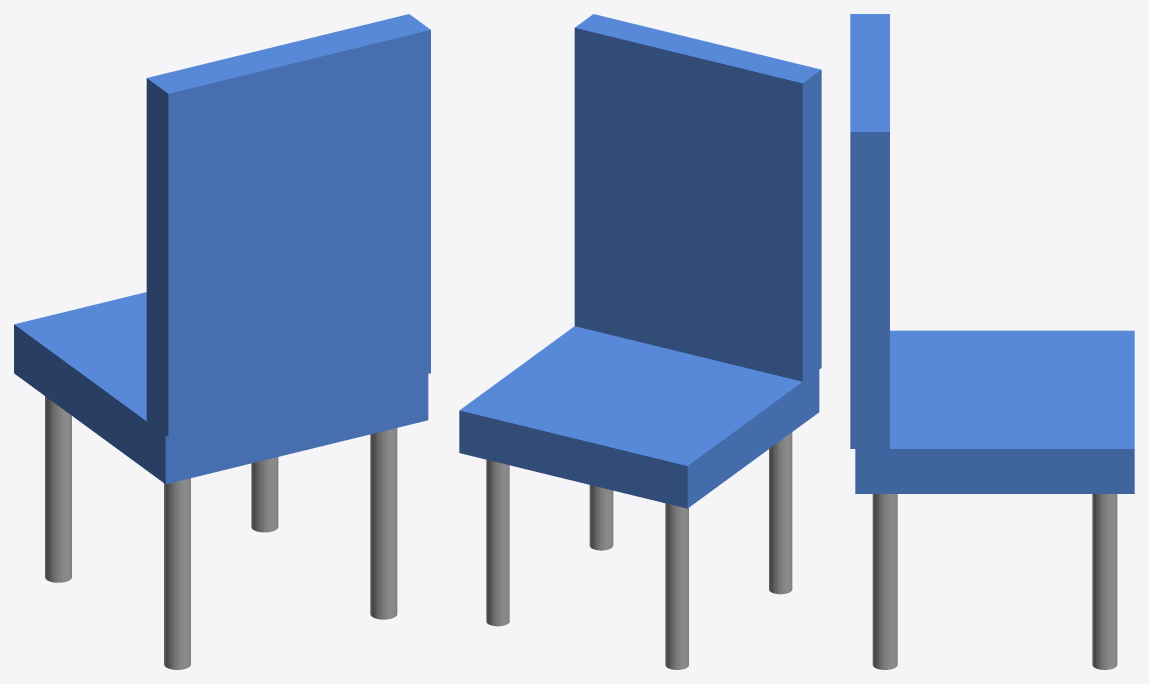
The model's file is sillla.fbx.
The picture shows the model from 3 angles, left to right: view 1: azimuth 30°, elevation 25°; view 2: azimuth 150°, elevation 25°; view 3: azimuth 270°, elevation 25°; orthographic projection. The views are drawn at different scales.
Parts seen in each view (by area): view 1: Respaldo, Asiento, Cylinder.002, Cylinder.003, Cylinder.001, Cylinder; view 2: Respaldo, Asiento, Cylinder.001, Cylinder, Cylinder.003, Cylinder.002; view 3: Asiento, Respaldo, Cylinder, Cylinder.002.
Boxes of the visible parts, left/top/right/bottom form: Respaldo: left=146, top=14, right=430, bottom=437; Asiento: left=14, top=292, right=428, bottom=484; Cylinder.002: left=370, top=428, right=397, bottom=619; Cylinder.003: left=164, top=478, right=190, bottom=669; Cylinder.001: left=45, top=396, right=71, bottom=582; Cylinder: left=251, top=457, right=278, bottom=532; Respaldo: left=574, top=14, right=821, bottom=381; Asiento: left=459, top=326, right=819, bottom=508; Cylinder.001: left=665, top=503, right=688, bottom=669; Cylinder: left=486, top=459, right=509, bottom=626; Cylinder.003: left=769, top=432, right=792, bottom=594; Cylinder.002: left=589, top=485, right=613, bottom=550; Asiento: left=855, top=330, right=1134, bottom=493; Respaldo: left=850, top=14, right=889, bottom=448; Cylinder: left=1092, top=494, right=1117, bottom=669; Cylinder.002: left=872, top=494, right=897, bottom=669.
Bounding box in the file's own units: 56 × 120 × 57.
